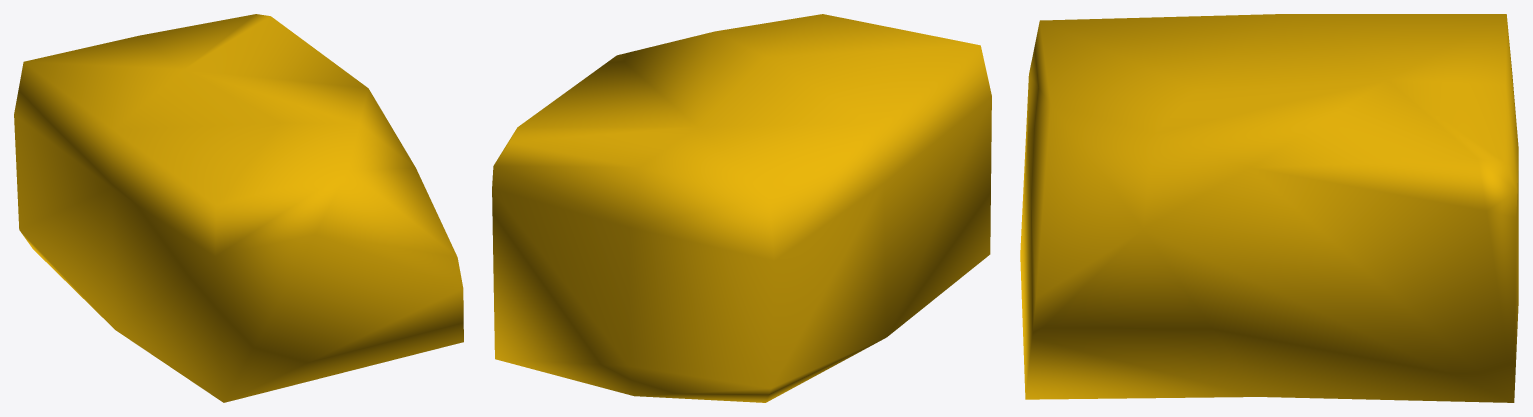
Rendered from Brick_01_Lod0.fbx.
The picture shows the model from 3 angles, left to right: view 1: azimuth 30°, elevation 25°; view 2: azimuth 150°, elevation 25°; view 3: azimuth 270°, elevation 25°; orthographic projection. The views are drawn at different scales.
Visible parts, largest first — view 1: Brick_01_Lod0; view 2: Brick_01_Lod0; view 3: Brick_01_Lod0.
Boxes of the visible parts, <box> form: Brick_01_Lod0: <box>14,14,463,402</box>; Brick_01_Lod0: <box>492,14,991,402</box>; Brick_01_Lod0: <box>1020,14,1518,402</box>.
Bounding box in the file's own units: 177 × 137 × 247.
